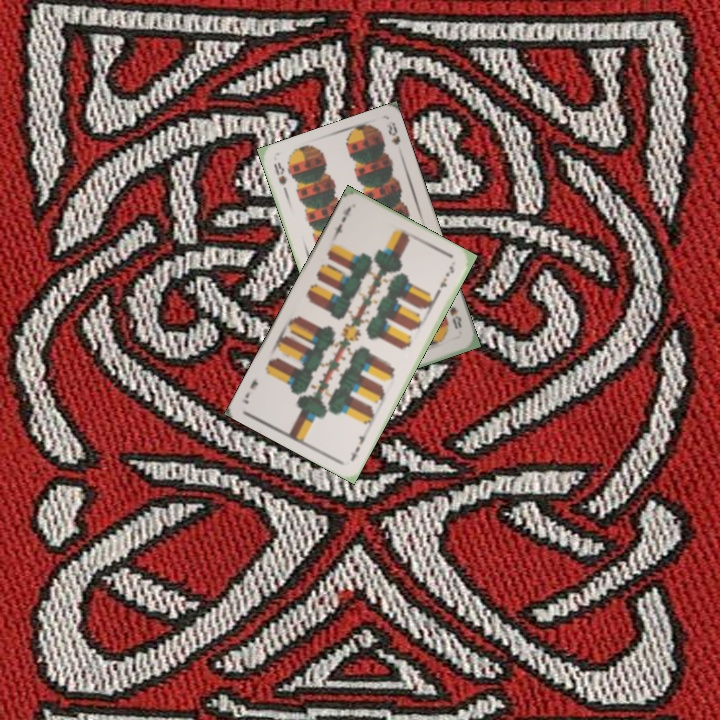E7: (328, 203, 354, 241), (346, 426, 371, 465)
S8: (270, 158, 290, 197), (445, 303, 464, 332)
